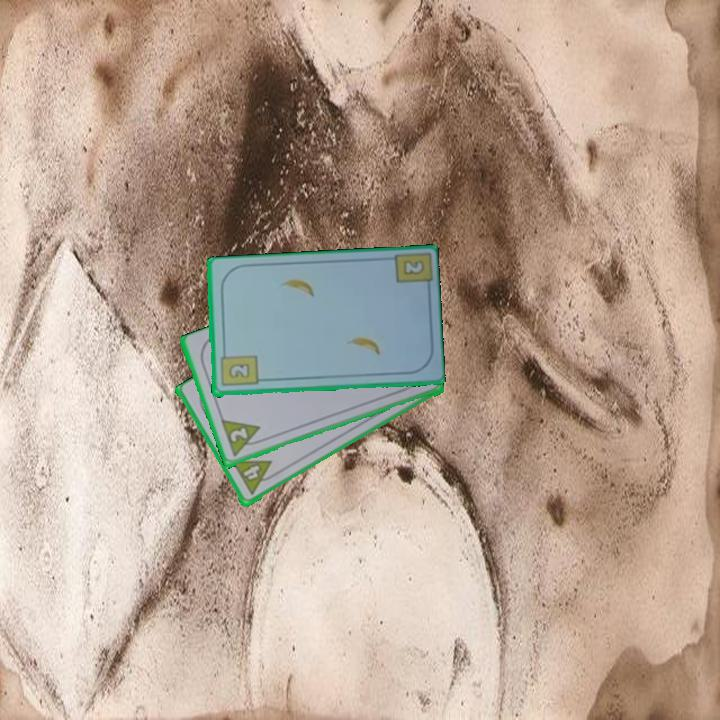2b: (217, 347, 260, 389), (399, 257, 426, 278)
2p: (226, 424, 250, 445)
4p: (231, 457, 272, 486)
